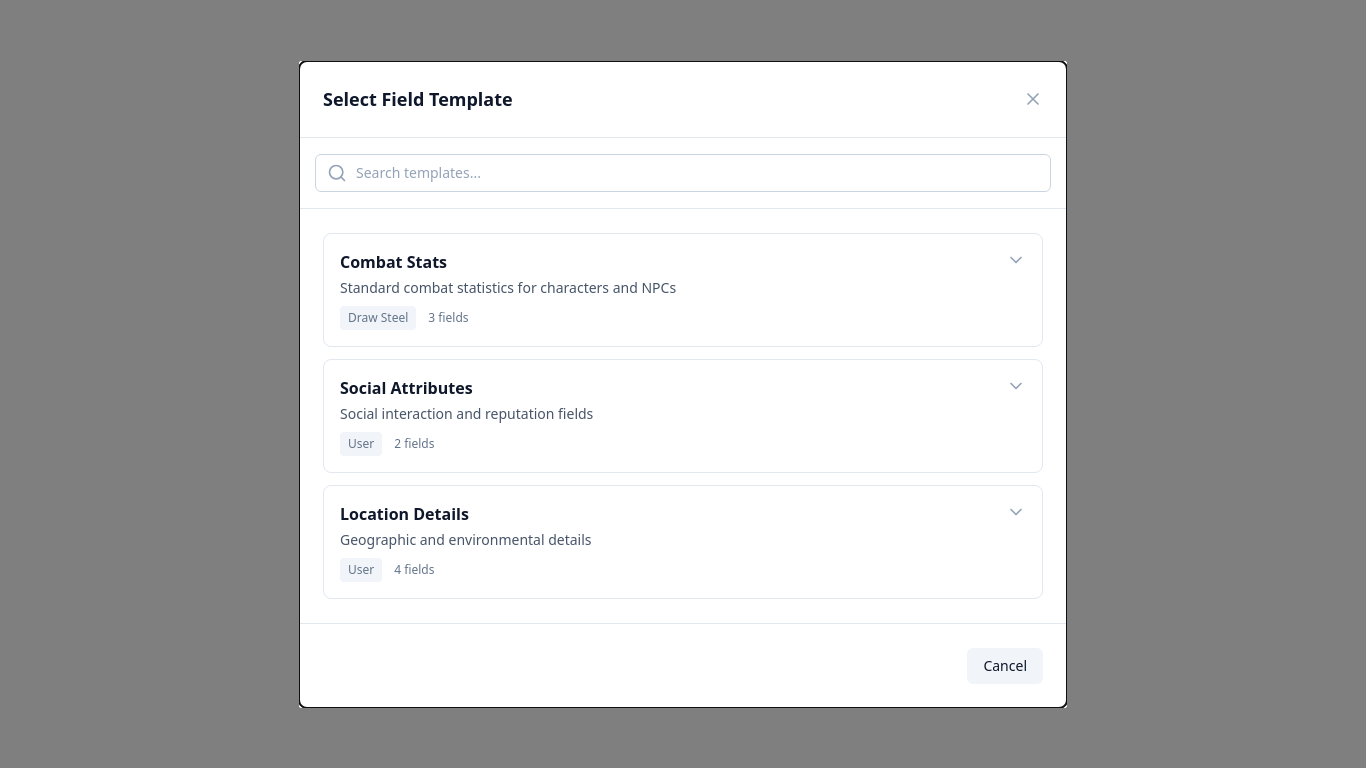
Test: FieldTemplatePicker - Search/Filter (Issue #210) › should filter templates by name
Type "combat" into the field. click: (683, 172)
box: [315, 154, 1051, 192]
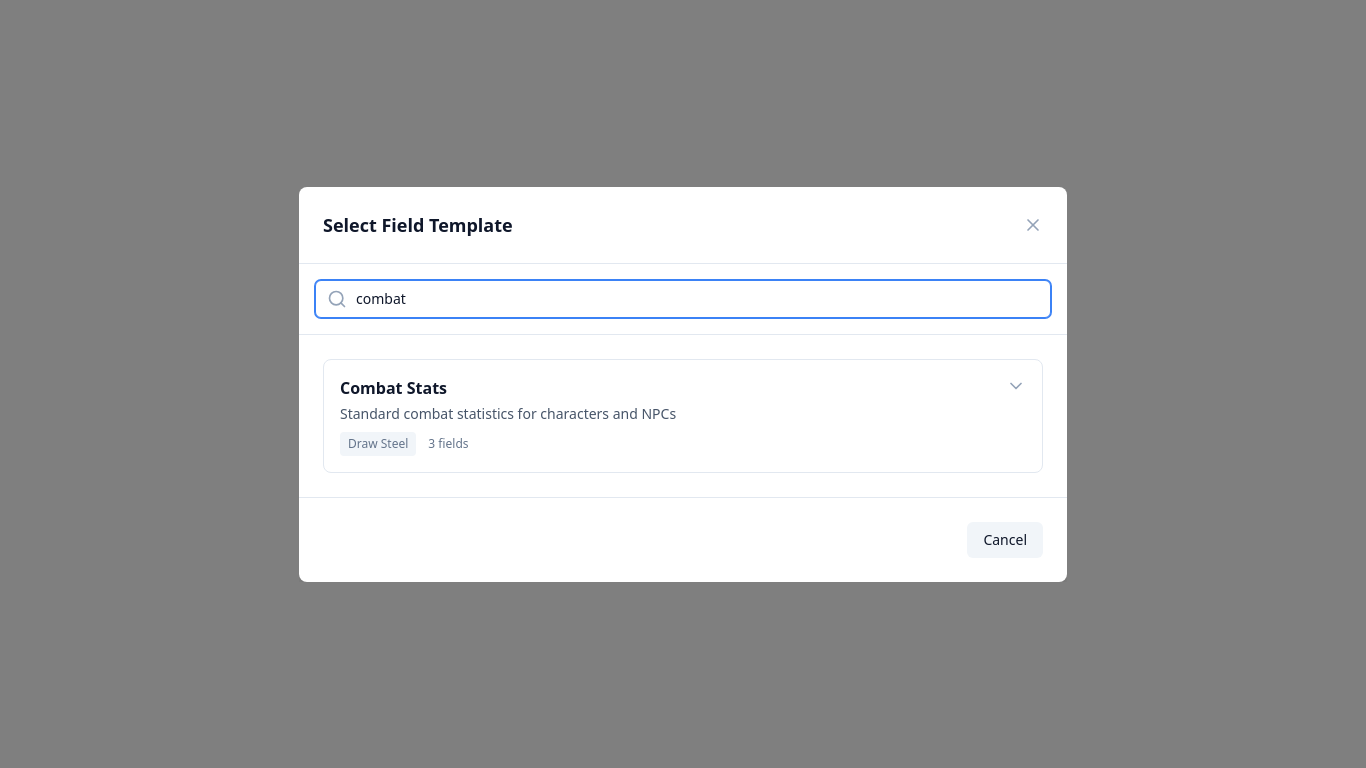
Check: the heading "Combat Stats" is shown, box [340, 376, 447, 398]
Check: the button "Social Attributes" is gone
Check: the button "Location Details" is gone
